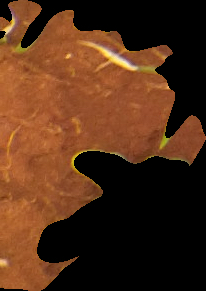soil: (1, 1, 205, 291)
